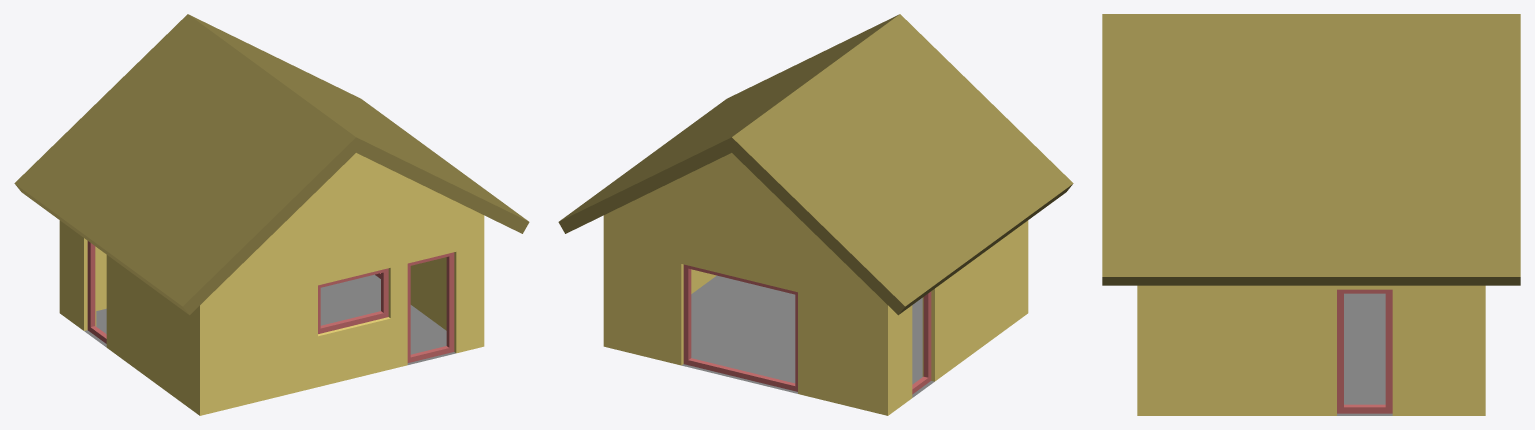
Rendered from result.glb.
The picture shows the model from 3 angles, left to right: view 1: azimuth 30°, elevation 25°; view 2: azimuth 150°, elevation 25°; view 3: azimuth 270°, elevation 25°; orthographic projection. The views are drawn at different scales.
Visible parts, largest first — view 1: 43424fbb-a984-480a-a163-0866da17a06d__undefined (×2), 7a685ecc-08f5-45b6-aaa8-b29d3a50a195__undefined, 472a8a56-e4cd-4071-b81e-1b50c8f7391f__Plane_6, 6519fdc7-9b07-40f9-85c1-8014122c6501__Box, c60d9c12-29b6-41c2-b269-ae1d110b0de8__Box_3, f88ebe1d-8ed8-479f-96a2-e1826cf92a78__Box_12; view 2: 43424fbb-a984-480a-a163-0866da17a06d__undefined (×2), 7a685ecc-08f5-45b6-aaa8-b29d3a50a195__undefined, 472a8a56-e4cd-4071-b81e-1b50c8f7391f__Plane_6, aa46601f-2c68-4484-afe2-5adbe1a88e63__Box_9, f88ebe1d-8ed8-479f-96a2-e1826cf92a78__Box_12; view 3: 43424fbb-a984-480a-a163-0866da17a06d__undefined, 7a685ecc-08f5-45b6-aaa8-b29d3a50a195__undefined, 472a8a56-e4cd-4071-b81e-1b50c8f7391f__Plane_6, 53a56a73-6f1a-43bc-b7e2-76cc204653f0__Box_15.
Part boxes in pixels (x1=…): 43424fbb-a984-480a-a163-0866da17a06d__undefined (×2): x1=14, y1=14, x2=529, y2=315; 7a685ecc-08f5-45b6-aaa8-b29d3a50a195__undefined: x1=59, y1=153, x2=484, y2=415; 472a8a56-e4cd-4071-b81e-1b50c8f7391f__Plane_6: x1=84, y1=274, x2=455, y2=364; 6519fdc7-9b07-40f9-85c1-8014122c6501__Box: x1=407, y1=252, x2=454, y2=362; c60d9c12-29b6-41c2-b269-ae1d110b0de8__Box_3: x1=318, y1=268, x2=388, y2=333; f88ebe1d-8ed8-479f-96a2-e1826cf92a78__Box_12: x1=87, y1=241, x2=106, y2=343; 43424fbb-a984-480a-a163-0866da17a06d__undefined (×2): x1=558, y1=14, x2=1073, y2=315; 7a685ecc-08f5-45b6-aaa8-b29d3a50a195__undefined: x1=603, y1=153, x2=1028, y2=415; 472a8a56-e4cd-4071-b81e-1b50c8f7391f__Plane_6: x1=682, y1=275, x2=934, y2=397; aa46601f-2c68-4484-afe2-5adbe1a88e63__Box_9: x1=683, y1=264, x2=797, y2=391; f88ebe1d-8ed8-479f-96a2-e1826cf92a78__Box_12: x1=912, y1=291, x2=931, y2=394; 43424fbb-a984-480a-a163-0866da17a06d__undefined: x1=1102, y1=14, x2=1520, y2=285; 7a685ecc-08f5-45b6-aaa8-b29d3a50a195__undefined: x1=1137, y1=285, x2=1485, y2=415; 472a8a56-e4cd-4071-b81e-1b50c8f7391f__Plane_6: x1=1337, y1=293, x2=1392, y2=415; 53a56a73-6f1a-43bc-b7e2-76cc204653f0__Box_15: x1=1337, y1=289, x2=1392, y2=413.
Bounding box in the file's own units: 714 × 500 × 600.
